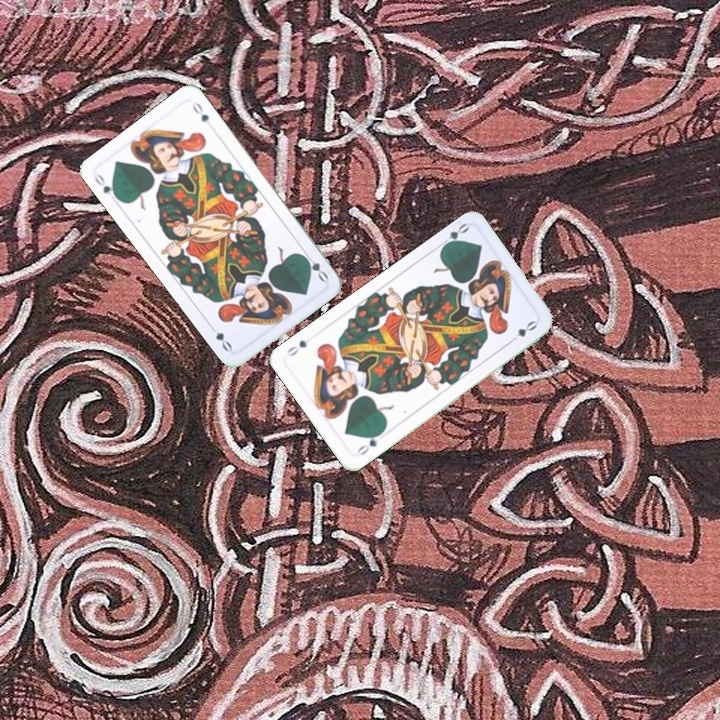GO: (298, 248, 331, 284), (435, 219, 472, 251), (90, 170, 122, 203), (353, 428, 386, 458)
